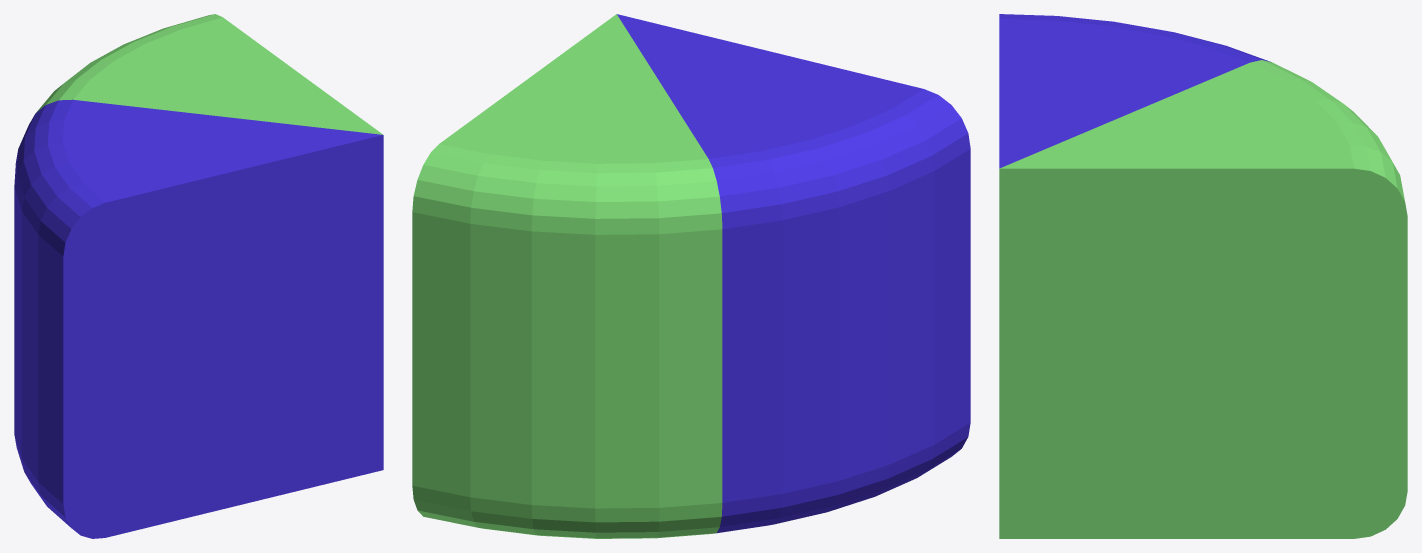
Rendered from Border_Angle.fbx.
3 views of the same model, side by side, from view 1: azimuth 30°, elevation 25°; view 2: azimuth 150°, elevation 25°; view 3: azimuth 270°, elevation 25° (orthographic). The views are drawn at different scales.
Parts seen in each view (by area): view 1: Border_Angle; view 2: Border_Angle; view 3: Border_Angle.
Boxes of the visible parts, x1,y1,x2,y2 form: Border_Angle: (14, 14, 383, 538); Border_Angle: (412, 14, 970, 538); Border_Angle: (999, 14, 1407, 538).
Size of the model in its own units: 200 by 200 by 200.
